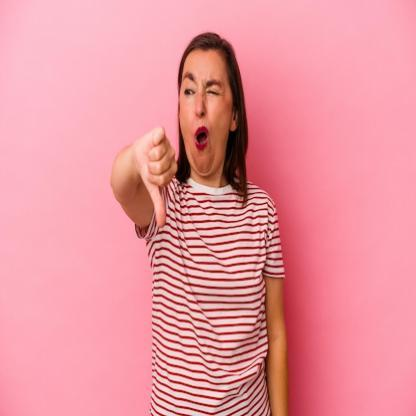thumb_down: (138, 122, 179, 230)
